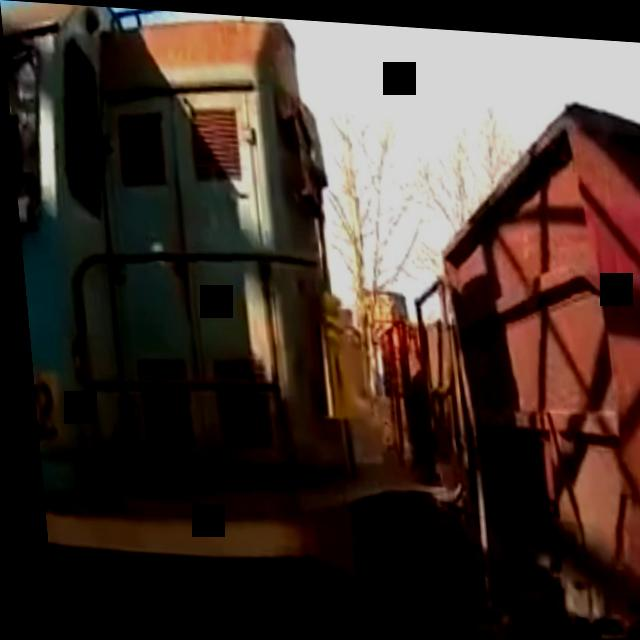gondola: (415, 57, 640, 640)
locomotive: (0, 0, 462, 640)
